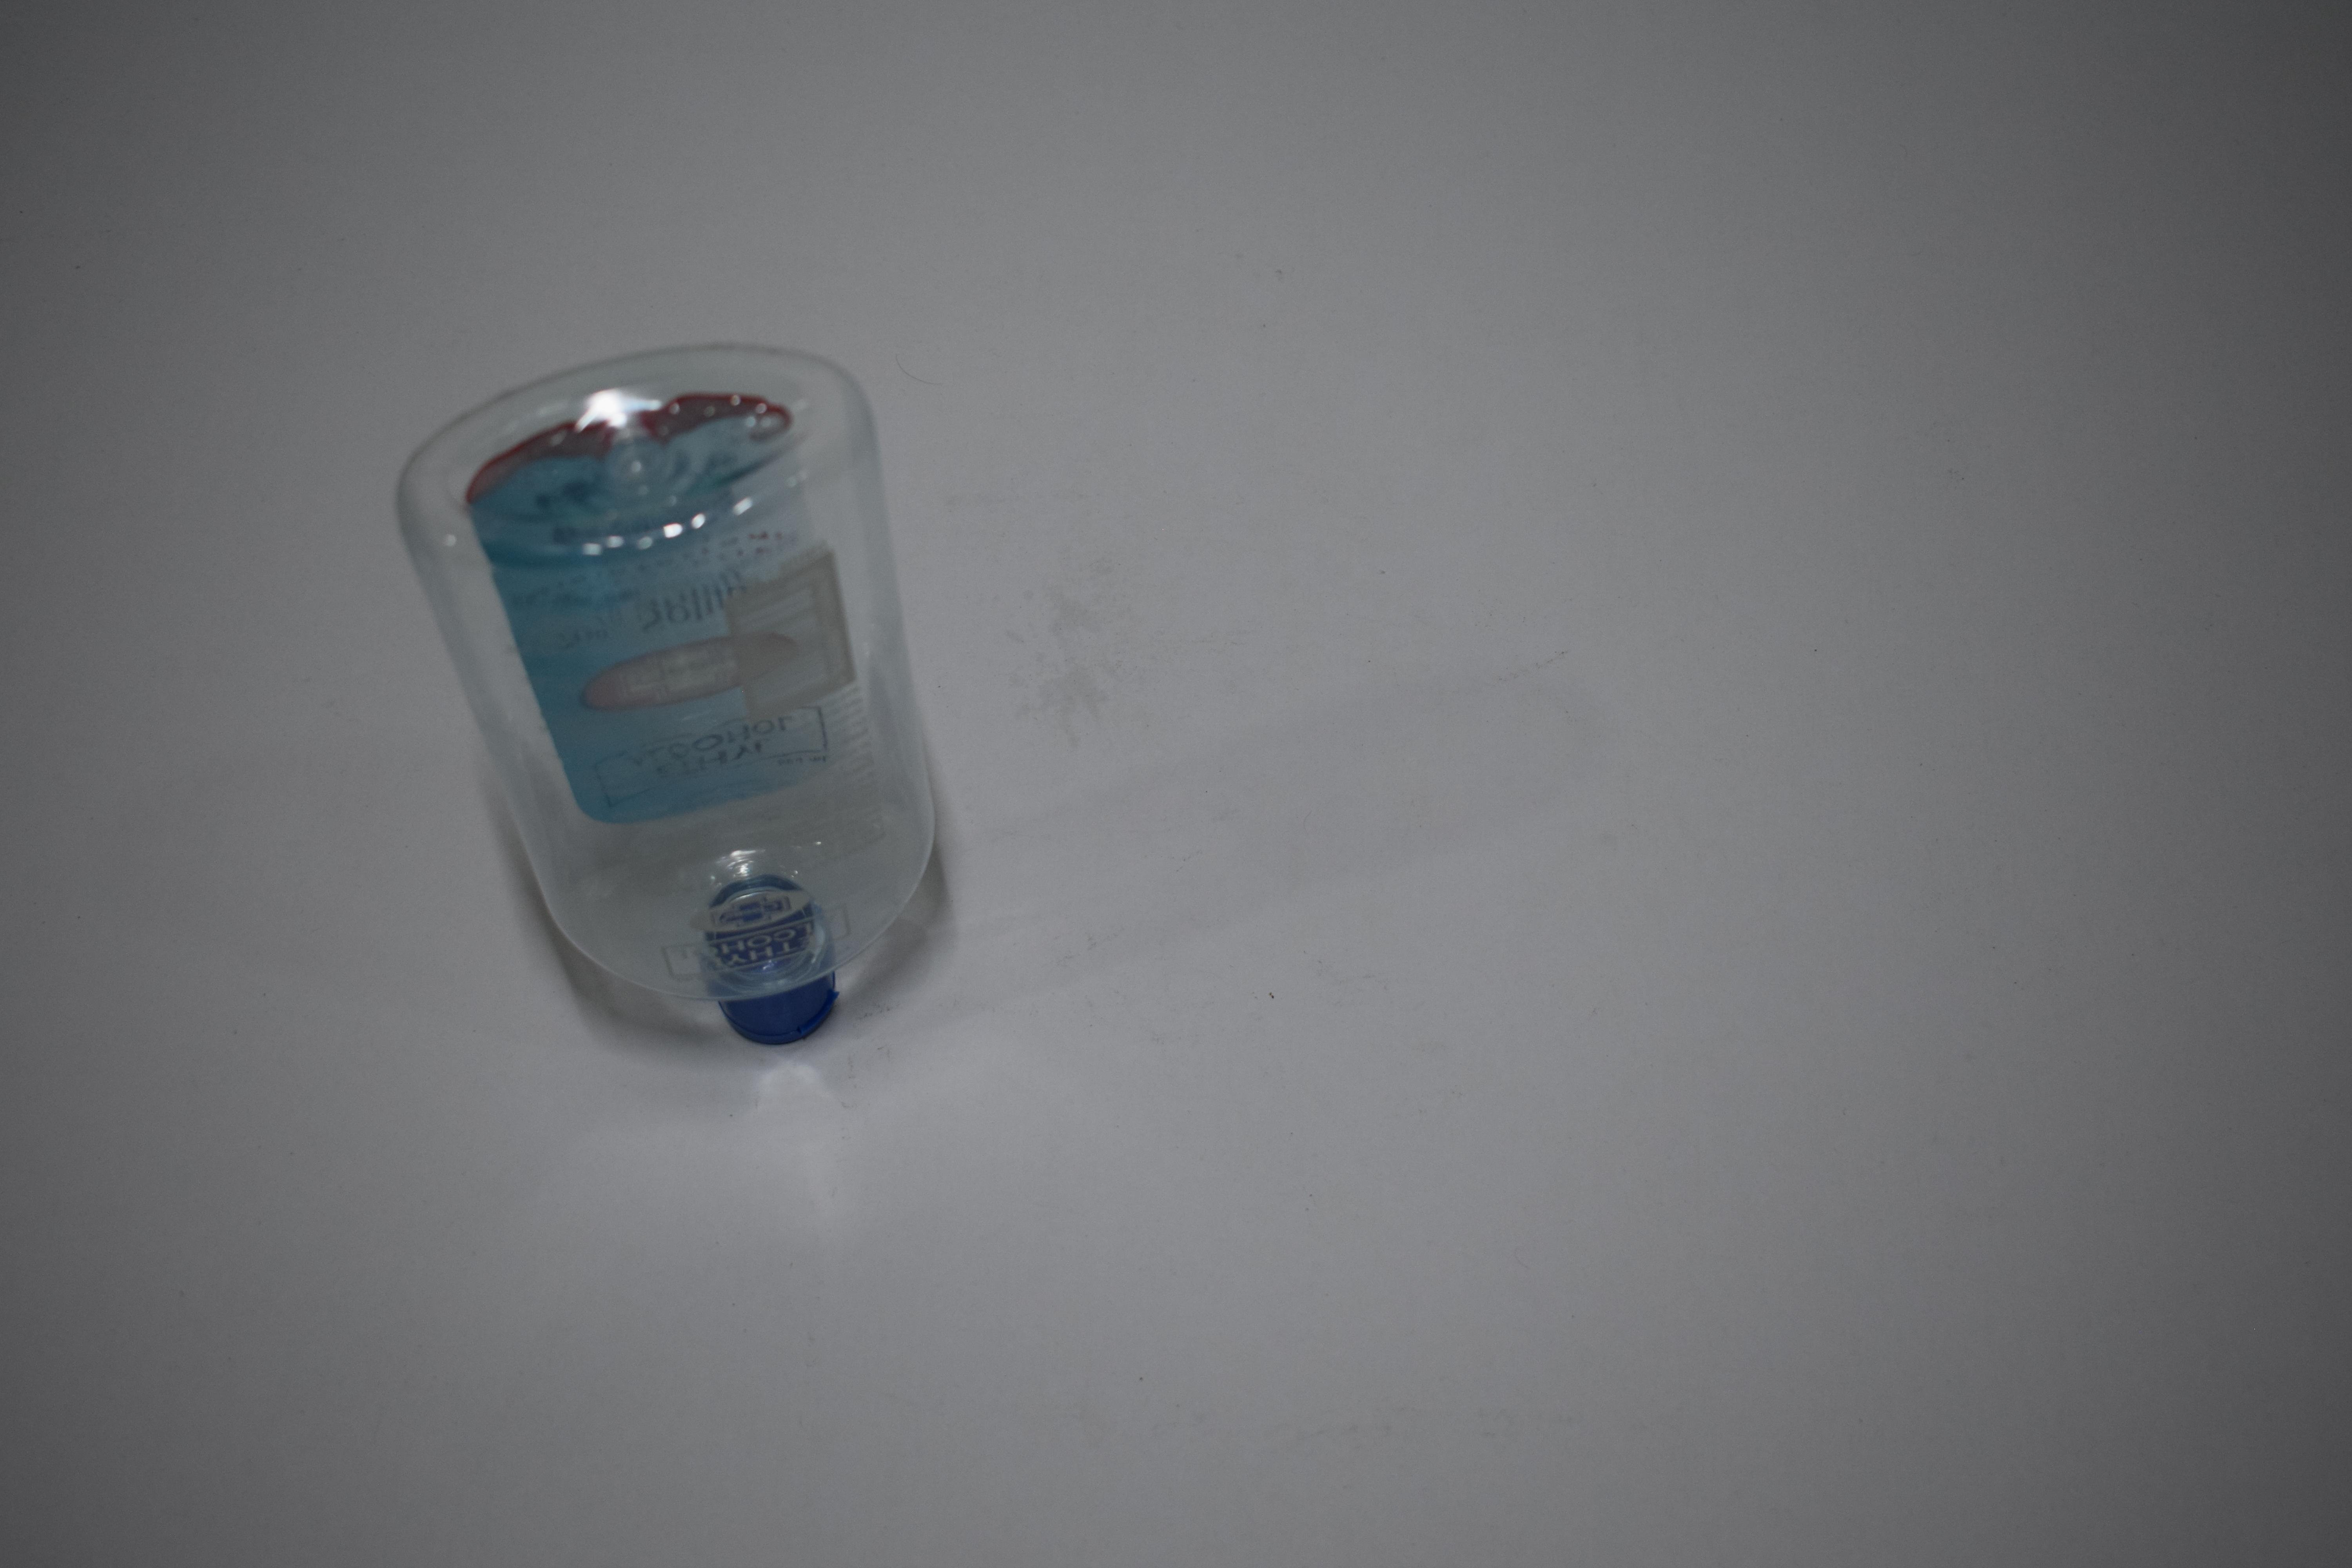bottle: (387, 376, 950, 1015)
